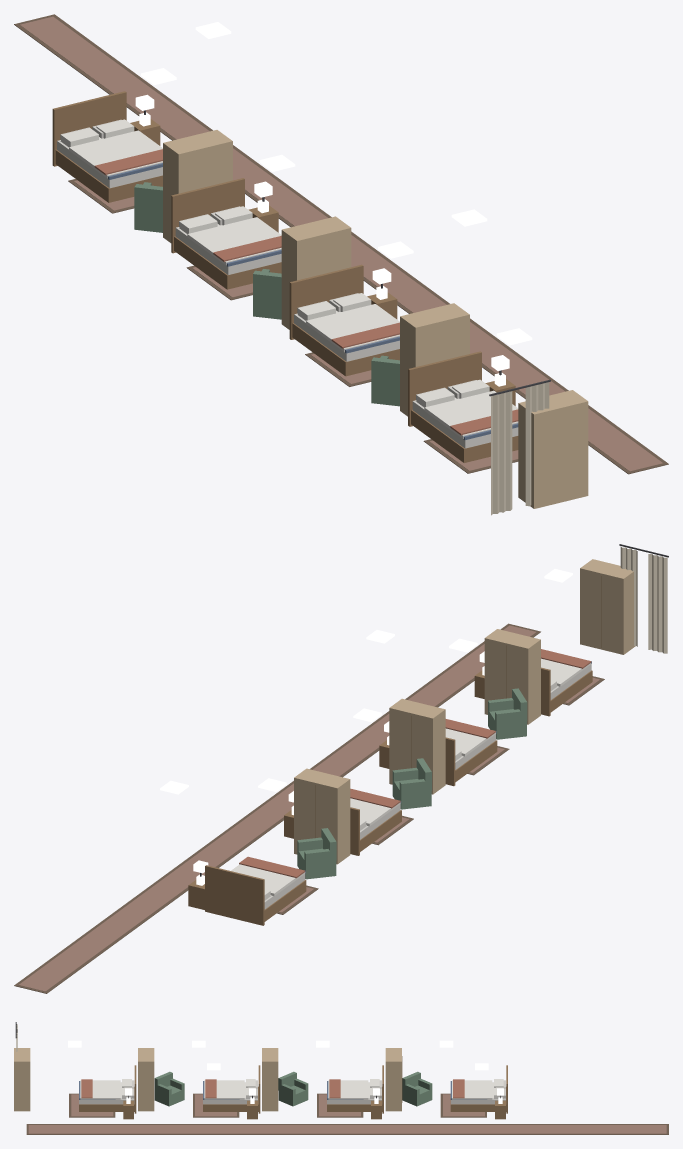
File: fine-s3.glb
The picture shows the model from 3 angles, top to bottom: view 1: azimuth 30°, elevation 25°; view 2: azimuth 150°, elevation 25°; view 3: azimuth 270°, elevation 25°; orthographic projection. The views are drawn at different scales.
Parts seen in each view (by area): view 1: soft-s3, dresser.011, bed-frame.008, bed-frame.010, bed-frame.009, bed-frame.011, dresser.009, dresser.008, dresser.010, lounge-chair.006, lounge-chair.008, lounge-chair.007; view 2: soft-s3, dresser.011, dresser.008, dresser.009, dresser.010, bed-frame.008, lounge-chair.007, lounge-chair.006, lounge-chair.008, bed-frame.010, bed-frame.009, bed-frame.011; view 3: soft-s3, dresser.008, dresser.009, dresser.010, dresser.011, lounge-chair.008, lounge-chair.006, lounge-chair.007, bed-frame.011, bed-frame.010, bed-frame.008, bed-frame.009 (+4 smaller).
Part boxes in pixels (x1=…): soft-s3: x1=14, y1=14, x2=668, y2=515; dresser.011: x1=518, y1=390, x2=588, y2=508; bed-frame.008: x1=52, y1=91, x2=162, y2=202; bed-frame.010: x1=289, y1=264, x2=399, y2=376; bed-frame.009: x1=171, y1=178, x2=281, y2=289; bed-frame.011: x1=408, y1=351, x2=518, y2=462; dresser.009: x1=281, y1=216, x2=351, y2=329; dresser.008: x1=163, y1=130, x2=232, y2=242; dresser.010: x1=400, y1=303, x2=469, y2=416; lounge-chair.006: x1=134, y1=182, x2=162, y2=232; lounge-chair.008: x1=371, y1=355, x2=399, y2=406; lounge-chair.007: x1=253, y1=269, x2=281, y2=319; soft-s3: x1=14, y1=544, x2=668, y2=993; dresser.011: x1=580, y1=559, x2=635, y2=654; dresser.008: x1=294, y1=768, x2=350, y2=864; dresser.009: x1=389, y1=698, x2=445, y2=794; dresser.010: x1=484, y1=629, x2=540, y2=724; bed-frame.008: x1=205, y1=865, x2=306, y2=925; lounge-chair.007: x1=392, y1=758, x2=431, y2=809; lounge-chair.006: x1=297, y1=828, x2=336, y2=879; lounge-chair.008: x1=488, y1=688, x2=527, y2=739; bed-frame.010: x1=445, y1=731, x2=497, y2=786; bed-frame.009: x1=350, y1=801, x2=401, y2=855; bed-frame.011: x1=541, y1=661, x2=592, y2=716; soft-s3: x1=15, y1=1022, x2=668, y2=1134; dresser.008: x1=385, y1=1048, x2=402, y2=1111; dresser.009: x1=262, y1=1048, x2=278, y2=1111; dresser.010: x1=138, y1=1048, x2=154, y2=1111; dresser.011: x1=14, y1=1048, x2=30, y2=1111; lounge-chair.008: x1=154, y1=1071, x2=184, y2=1106; lounge-chair.006: x1=402, y1=1071, x2=432, y2=1106; lounge-chair.007: x1=278, y1=1071, x2=308, y2=1106; bed-frame.011: x1=79, y1=1065, x2=136, y2=1113; bed-frame.010: x1=203, y1=1065, x2=260, y2=1113; bed-frame.008: x1=450, y1=1065, x2=507, y2=1113; bed-frame.009: x1=327, y1=1065, x2=383, y2=1113.
Size of the model in its own units: 4.19 by 2.61 by 24.01.
